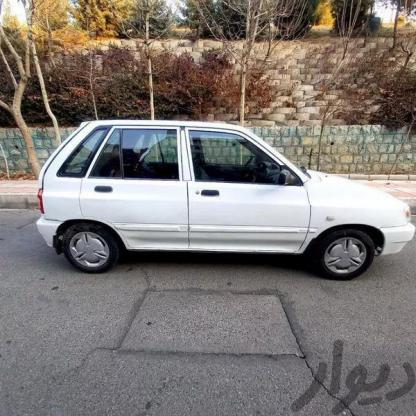Car: (23, 118, 410, 292)
